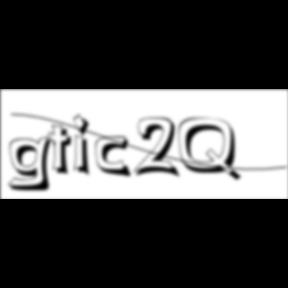2: (135, 117, 185, 181)
Q: (179, 117, 245, 184)
c: (96, 136, 136, 180)
g: (8, 134, 60, 194)
i: (73, 112, 97, 180)
t: (48, 124, 79, 179)
